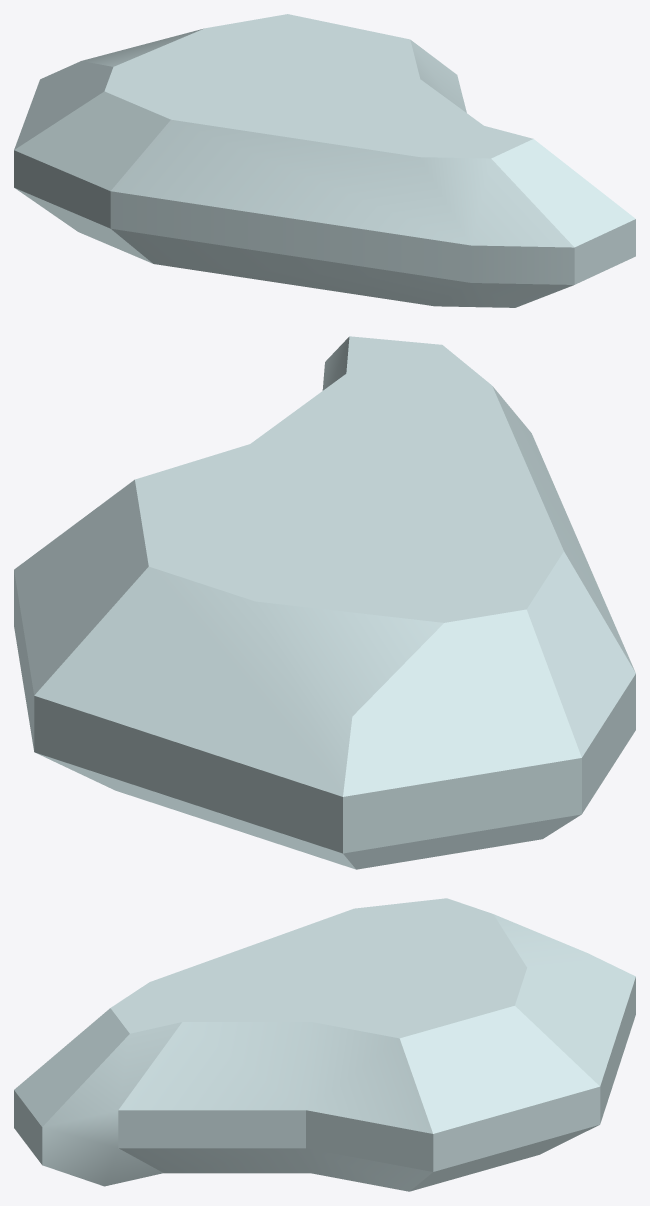
The model's file is stone_large1.gltf.
The picture shows the model from 3 angles, top to bottom: view 1: azimuth 30°, elevation 25°; view 2: azimuth 150°, elevation 25°; view 3: azimuth 270°, elevation 25°; orthographic projection. The views are drawn at different scales.
Parts seen in each view (by area): view 1: stone_large1; view 2: stone_large1; view 3: stone_large1.
Part boxes in pixels (left/top/right/bottom): stone_large1: left=14, top=14, right=635, bottom=307; stone_large1: left=14, top=336, right=635, bottom=869; stone_large1: left=14, top=898, right=635, bottom=1191.
Size of the model in its own units: 0.7849 by 0.2598 by 1.02.
